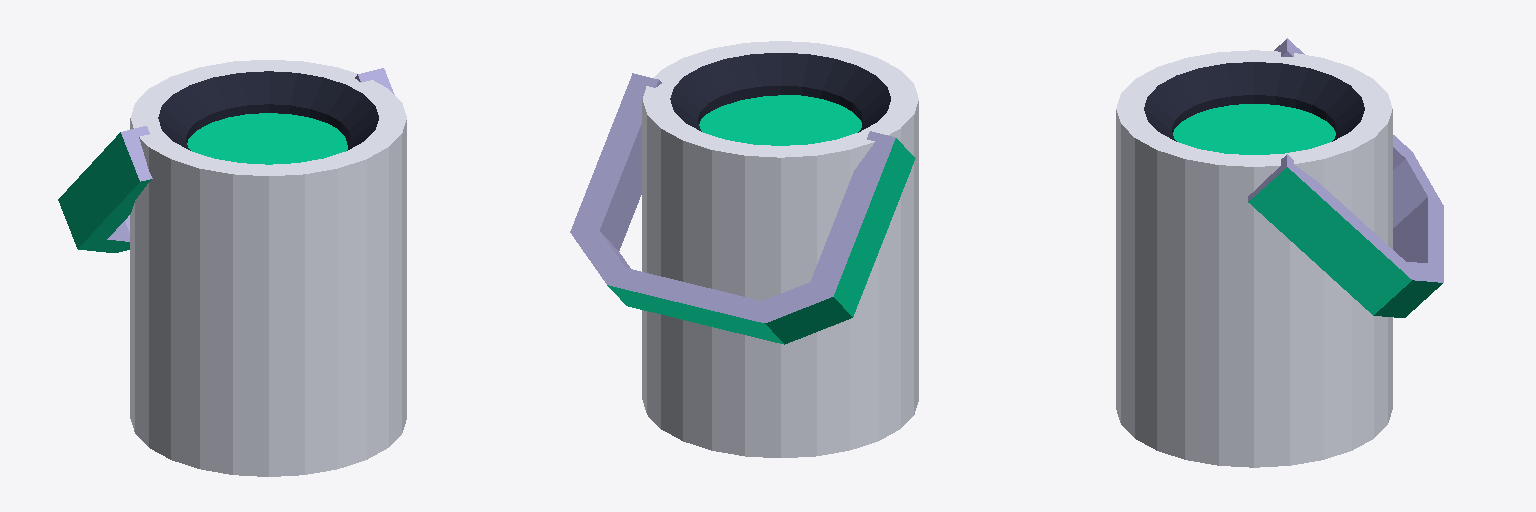
File: PaintBucket.obj
3 renders of one model, left to right at view 1: azimuth 30°, elevation 25°; view 2: azimuth 150°, elevation 25°; view 3: azimuth 270°, elevation 25°, orthographic.
Parts seen in each view (by area): view 1: mergedBlocks; view 2: mergedBlocks; view 3: mergedBlocks.
Boxes of the visible parts, <box> form: mergedBlocks: <box>58,60,406,476</box>; mergedBlocks: <box>570,41,918,457</box>; mergedBlocks: <box>1116,38,1443,467</box>.
Size of the model in its own units: 0.55 by 0.612 by 0.5923.